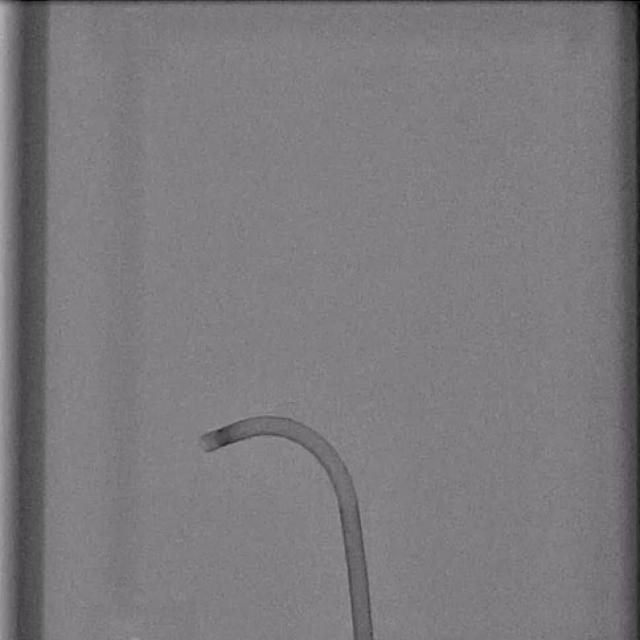bend: (335, 492, 360, 506)
entry: (355, 636, 373, 640)
marker: (213, 428, 231, 448)
tip: (198, 436, 212, 452)
